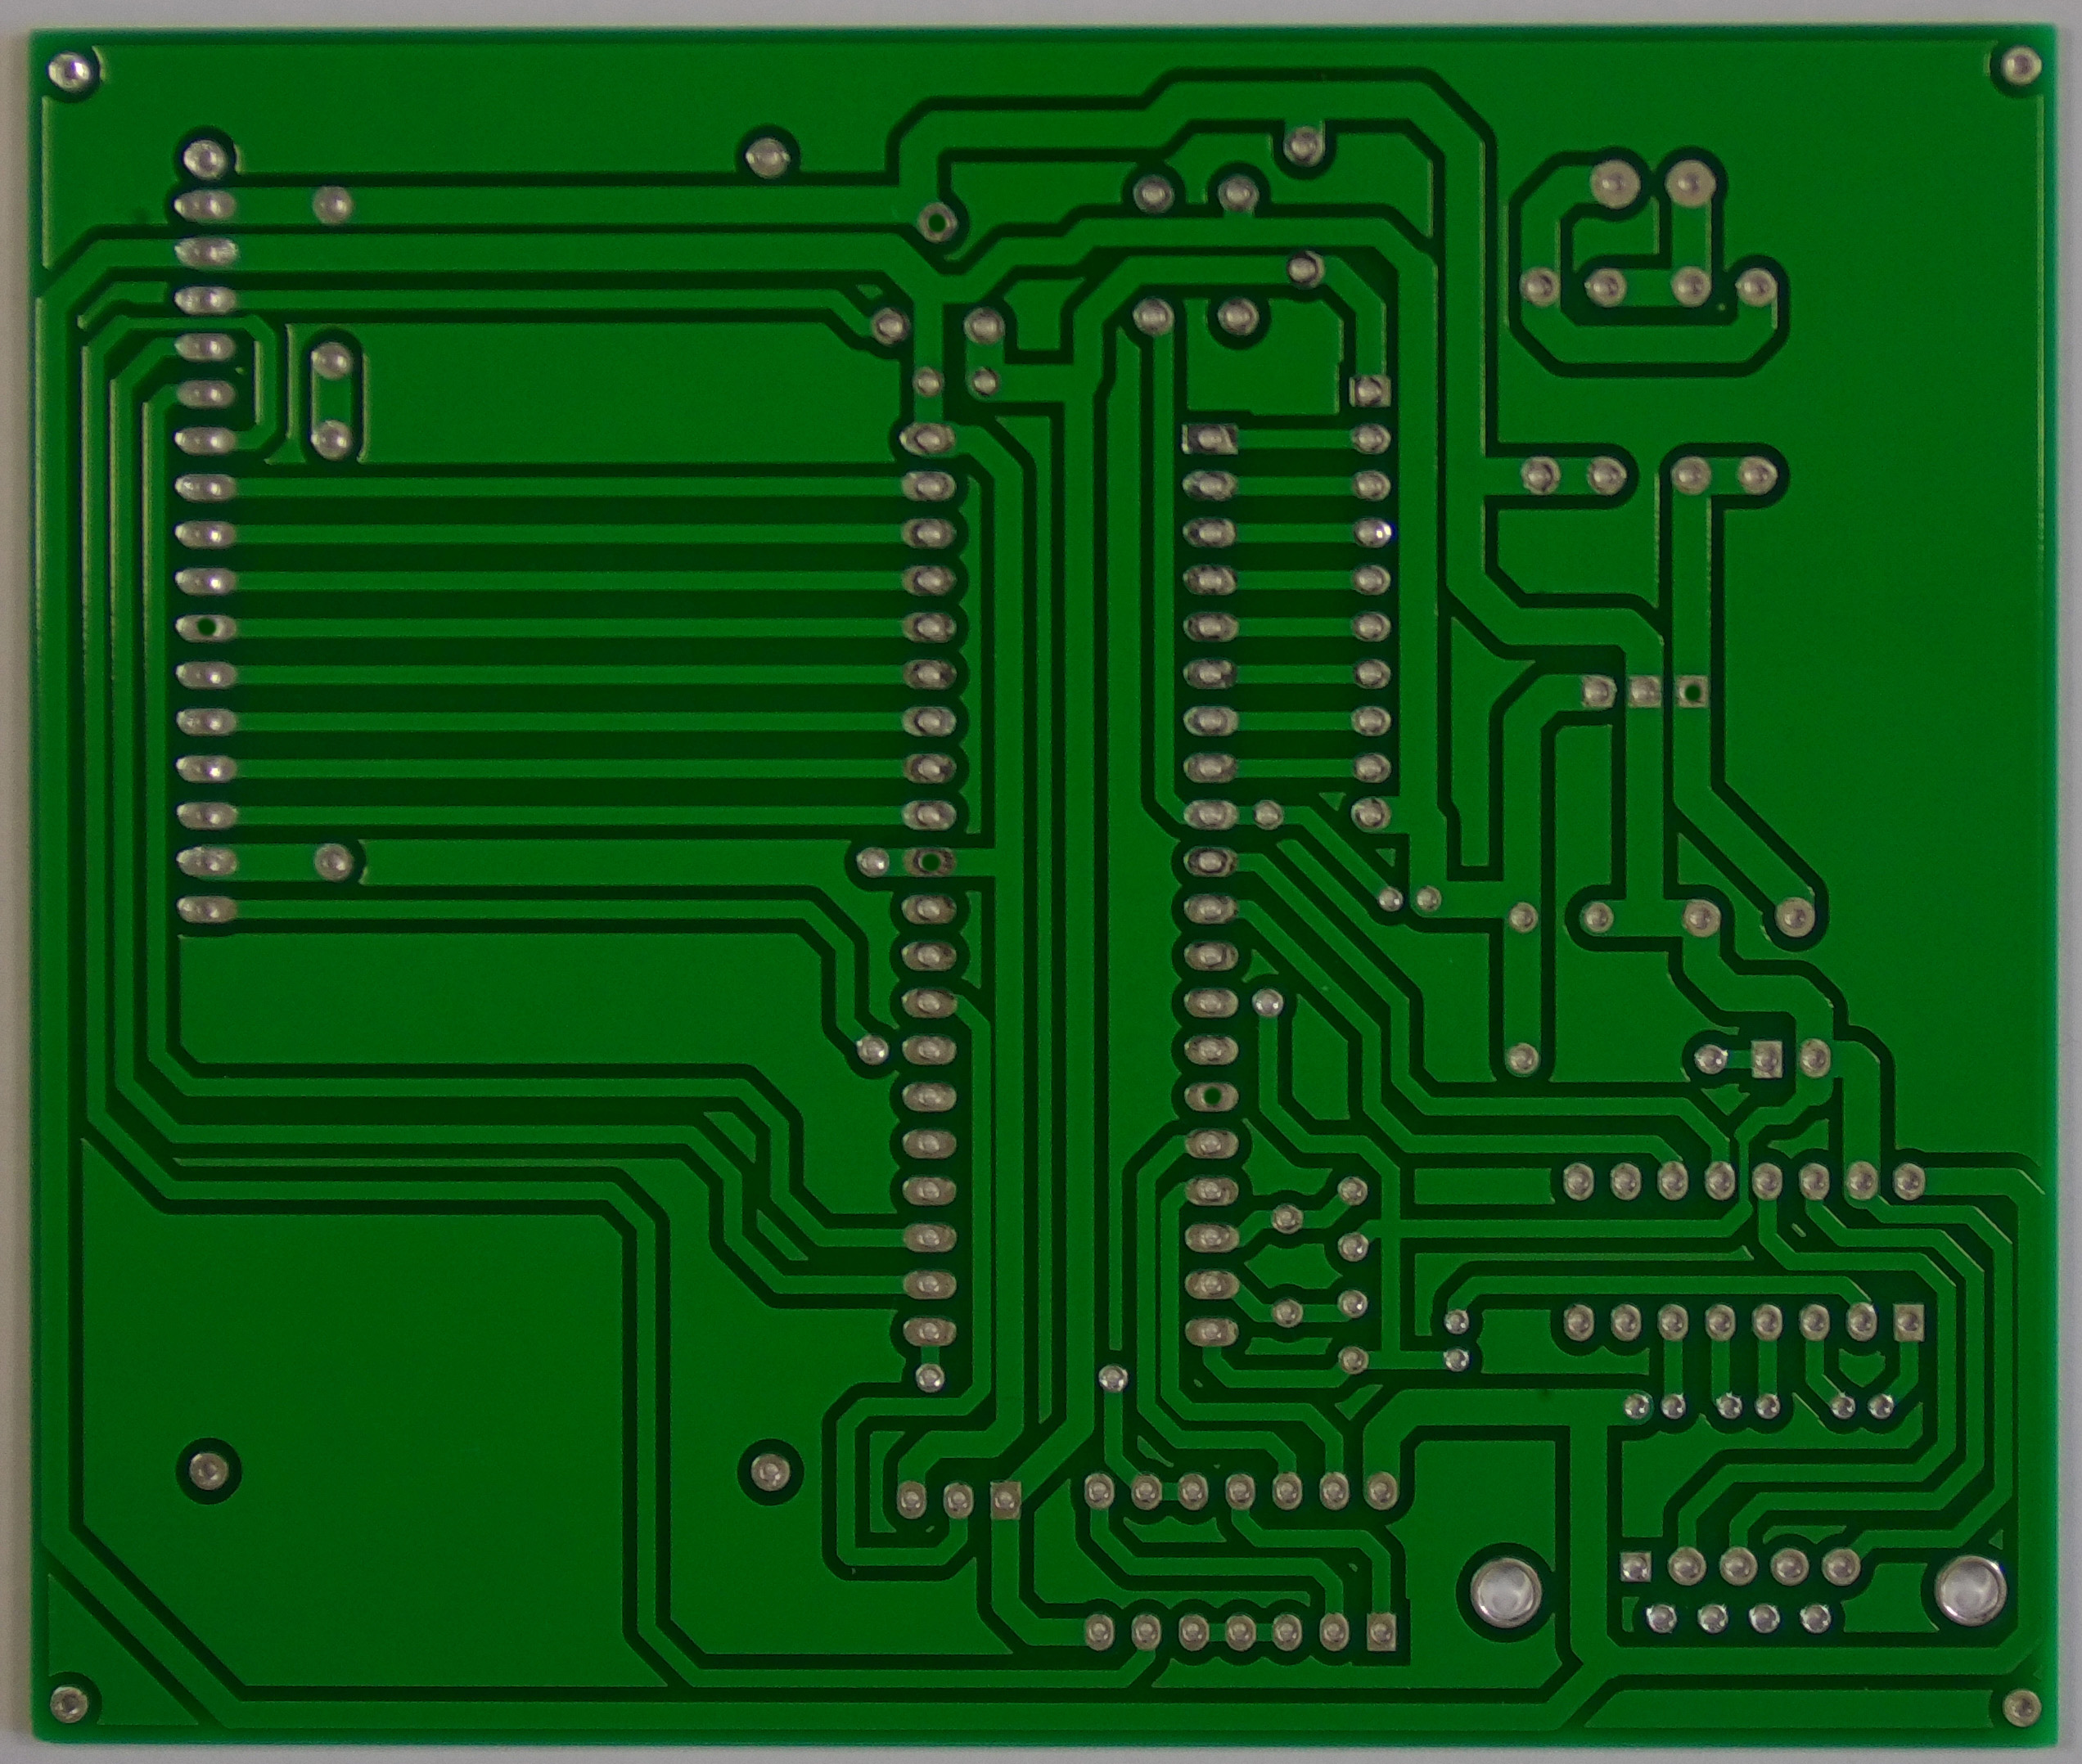missing_hole: (902, 837, 962, 883), (180, 603, 234, 653), (915, 199, 965, 253), (1187, 1078, 1239, 1126), (1678, 671, 1710, 715)
